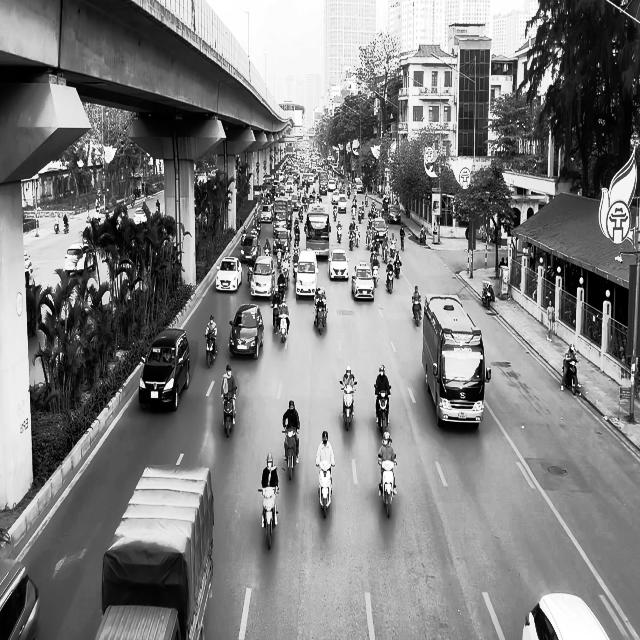car: (138, 328, 190, 411), (522, 592, 610, 640), (0, 556, 41, 640), (229, 303, 264, 359), (215, 256, 242, 292), (352, 263, 375, 301), (328, 248, 349, 280), (133, 207, 148, 225)
motorbike: (258, 486, 280, 550), (378, 456, 398, 518), (282, 425, 300, 480), (317, 460, 334, 518), (340, 380, 358, 431), (374, 384, 392, 435), (222, 388, 238, 438), (561, 358, 582, 396), (314, 300, 328, 334), (279, 304, 290, 343), (206, 334, 217, 367), (482, 281, 494, 308), (412, 294, 422, 326)
truck: (422, 294, 492, 428)
